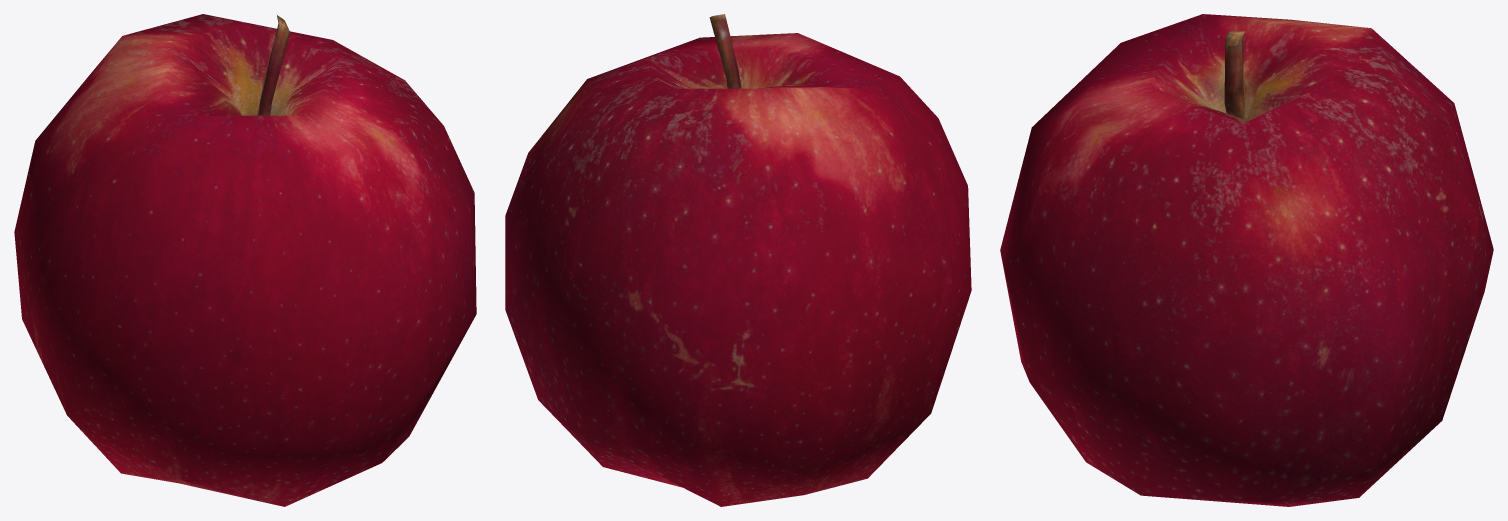
The model's file is apple.glb.
3 renders of one model, left to right at view 1: azimuth 30°, elevation 25°; view 2: azimuth 150°, elevation 25°; view 3: azimuth 270°, elevation 25°, orthographic. The views are drawn at different scales.
Parts seen in each view (by area): view 1: tgzoahbpa_LOD0_TIER3_000; view 2: tgzoahbpa_LOD0_TIER3_000; view 3: tgzoahbpa_LOD0_TIER3_000.
Boxes of the visible parts, box(x1,y1,x2,y2) form: tgzoahbpa_LOD0_TIER3_000: box(14, 14, 476, 506); tgzoahbpa_LOD0_TIER3_000: box(505, 14, 971, 506); tgzoahbpa_LOD0_TIER3_000: box(1000, 14, 1493, 506).
Bounding box in the file's own units: 0.0766 × 0.0802 × 0.0774.
Materials: 1 (1 with a texture image).
